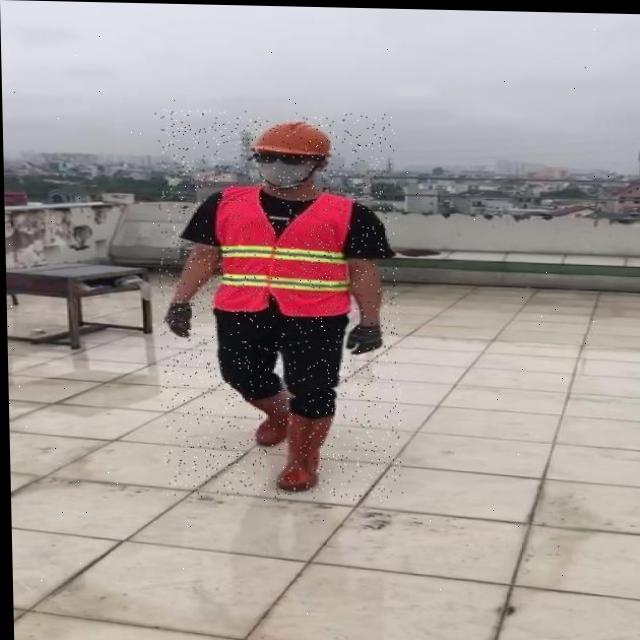Gloves: (345, 321, 382, 353), (163, 301, 192, 336)
Helmet: (246, 118, 327, 160)
Safety-Boot: (274, 407, 333, 490), (250, 388, 290, 445)
Safety-Vest: (210, 183, 358, 316)
